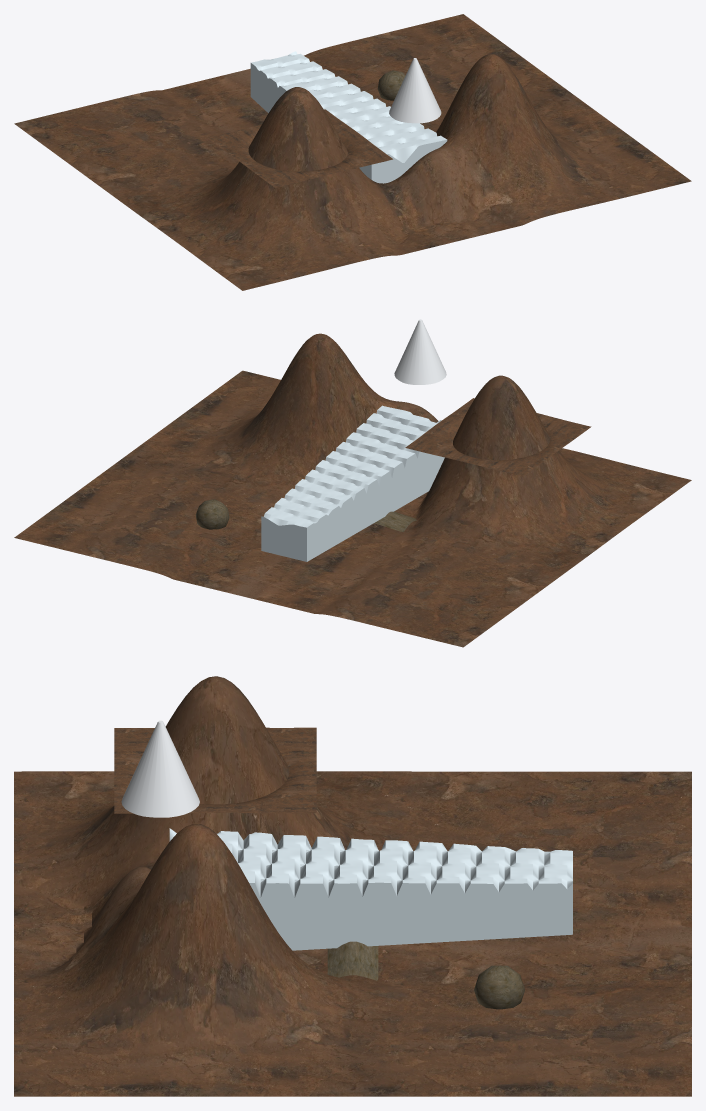
The model's file is glaciers.glb.
3 views of the same model, one above another, from view 1: azimuth 30°, elevation 25°; view 2: azimuth 150°, elevation 25°; view 3: azimuth 270°, elevation 25° (orthographic). The views are drawn at different scales.
Visible parts, largest first — view 1: Glacier_UTrough, Glacier_Ice, Glacier_Cirque, Glacier_Horn, Glacier_Drumlin; view 2: Glacier_UTrough, Glacier_Ice, Glacier_Cirque, Glacier_Horn, Glacier_Drumlin; view 3: Glacier_UTrough, Glacier_Ice, Glacier_Cirque, Glacier_Horn, Glacier_Drumlin, Glacier_Moraine.
Boxes of the visible parts, x1=… form: Glacier_UTrough: x1=14, y1=14, x2=691, y2=290; Glacier_Ice: x1=250, y1=51, x2=447, y2=183; Glacier_Cirque: x1=207, y1=109, x2=392, y2=187; Glacier_Horn: x1=389, y1=58, x2=441, y2=123; Glacier_Drumlin: x1=377, y1=70, x2=405, y2=100; Glacier_UTrough: x1=14, y1=333, x2=691, y2=647; Glacier_Ice: x1=261, y1=405, x2=444, y2=561; Glacier_Cirque: x1=405, y1=398, x2=591, y2=476; Glacier_Horn: x1=394, y1=319, x2=446, y2=384; Glacier_Drumlin: x1=195, y1=499, x2=229, y2=529; Glacier_UTrough: x1=14, y1=676, x2=691, y2=1096; Glacier_Ice: x1=169, y1=828, x2=572, y2=950; Glacier_Cirque: x1=114, y1=727, x2=316, y2=813; Glacier_Horn: x1=121, y1=720, x2=199, y2=817; Glacier_Drumlin: x1=474, y1=965, x2=524, y2=1009; Glacier_Moraine: x1=327, y1=941, x2=378, y2=980.
Bounding box in the file's own units: 8.4 × 2.7 × 7.4.
Materials: 5 (3 with a texture image).
